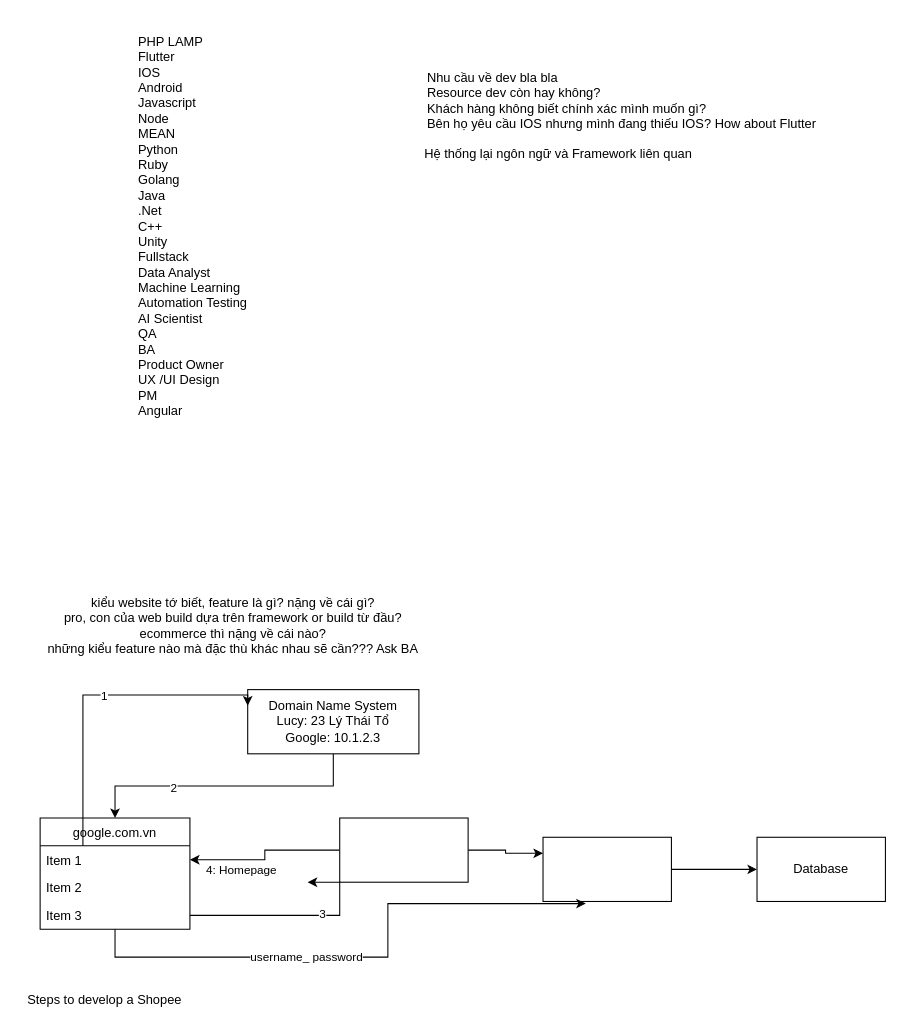
The diagram is 904 pixels wide and 1028 high, and some of its shapes have lost their labels. Each missing label, with the box of its shape:
Backend: (542, 836, 671, 901)
Frontend Server: (339, 817, 468, 882)
